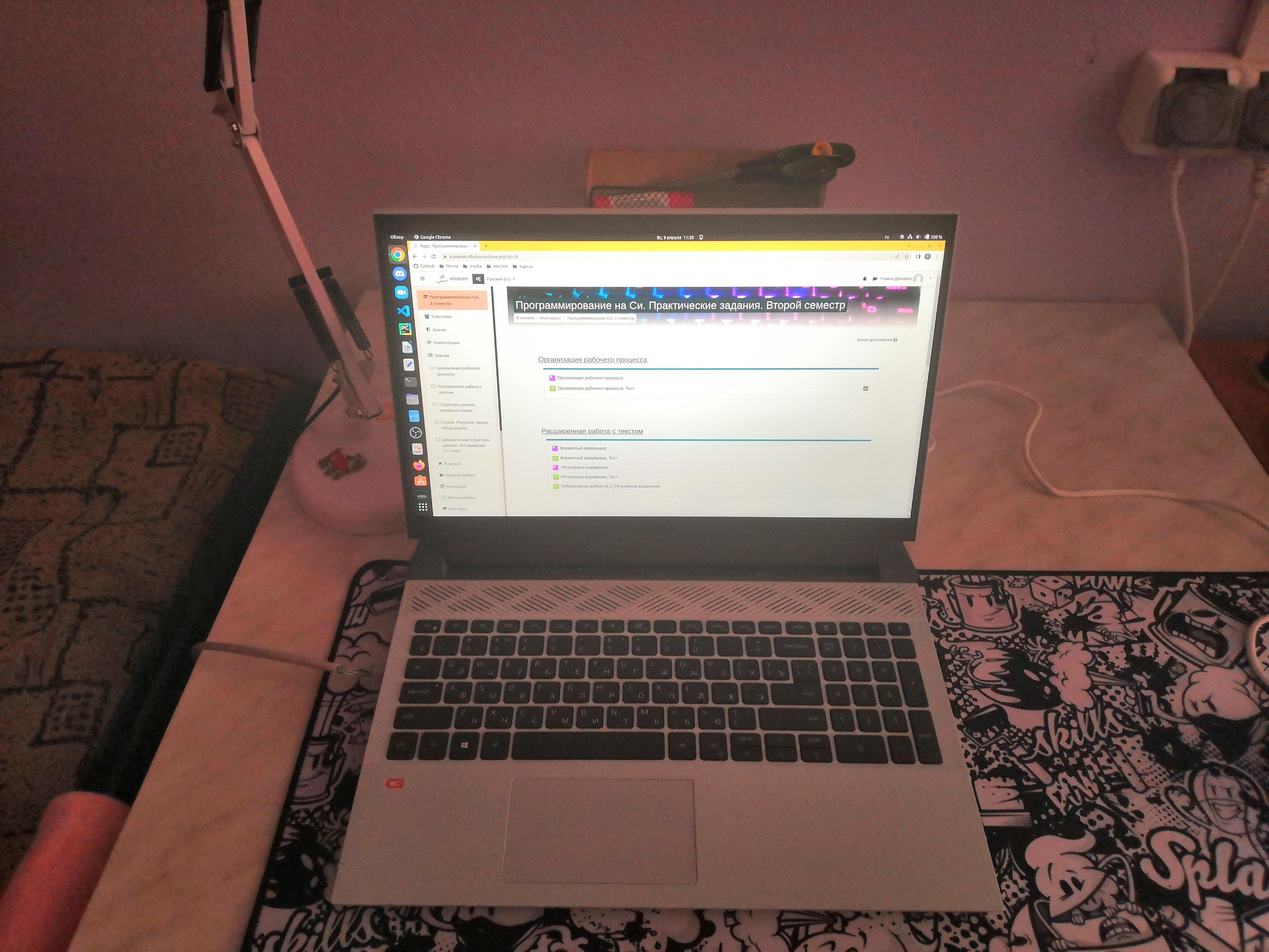monitor: (372, 207, 962, 562)
